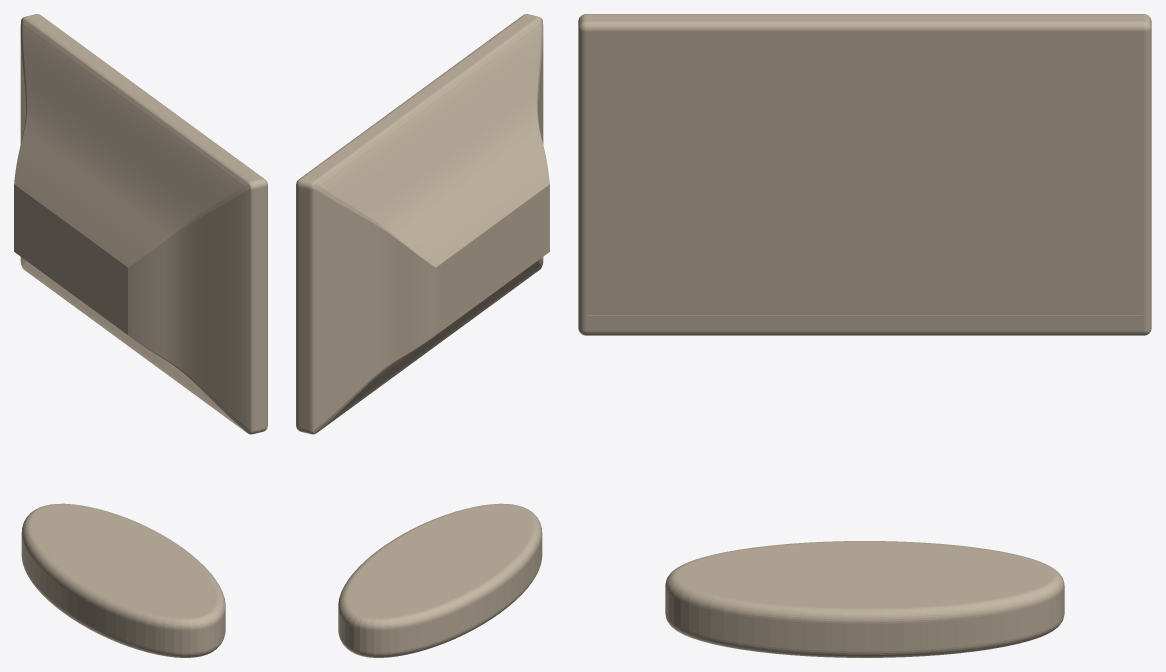
Rendered from 3dcodebench_Monitor_seed0_L3_Q2__gemini4argon.glb.
The picture shows the model from 3 angles, left to right: view 1: azimuth 30°, elevation 25°; view 2: azimuth 150°, elevation 25°; view 3: azimuth 270°, elevation 25°; orthographic projection. The views are drawn at different scales.
Visible parts, largest first — view 1: object; view 2: object; view 3: object.
Part boxes in pixels (x1,y1,x2,y2): object: (14, 14, 267, 657); object: (296, 14, 549, 657); object: (578, 14, 1151, 657).
Bounding box in the file's own units: 0.19 × 0.7174 × 0.6033.
